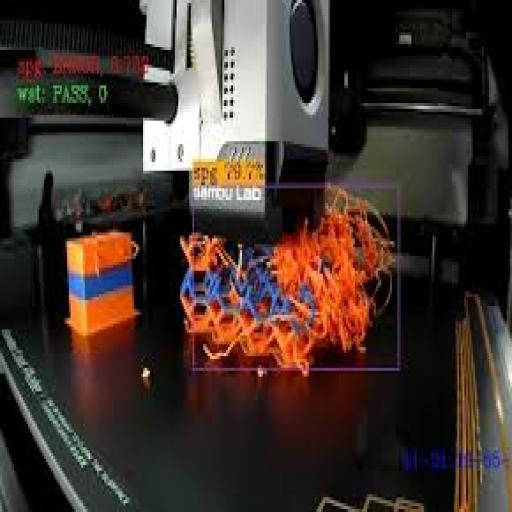spaghetti: (179, 229, 413, 381)
